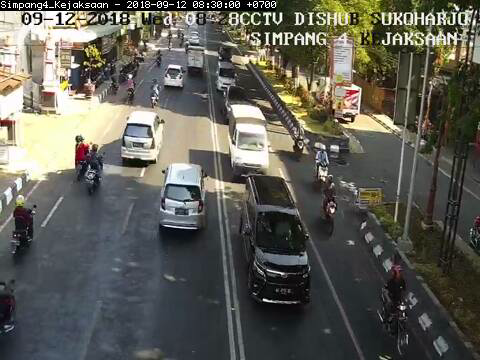motor: (382, 263, 412, 356), (322, 172, 339, 239), (314, 145, 329, 189), (291, 121, 307, 162)
